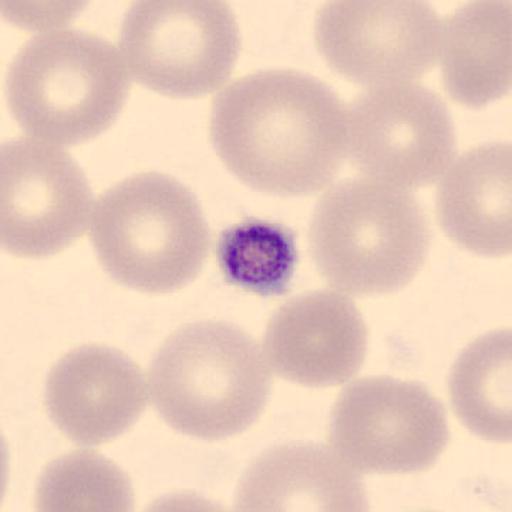Platelet: (213, 214, 302, 298)
RBC: (208, 66, 348, 200), (144, 316, 276, 444), (304, 174, 433, 300), (87, 168, 212, 296), (4, 25, 134, 148), (326, 372, 452, 476), (312, 0, 444, 97), (116, 1, 244, 101), (348, 78, 458, 190), (41, 341, 151, 449), (2, 135, 96, 260), (258, 287, 372, 390), (227, 437, 373, 512), (434, 139, 512, 260), (439, 0, 512, 109), (446, 326, 512, 445), (32, 447, 136, 512), (1, 0, 98, 35), (128, 488, 239, 512)
